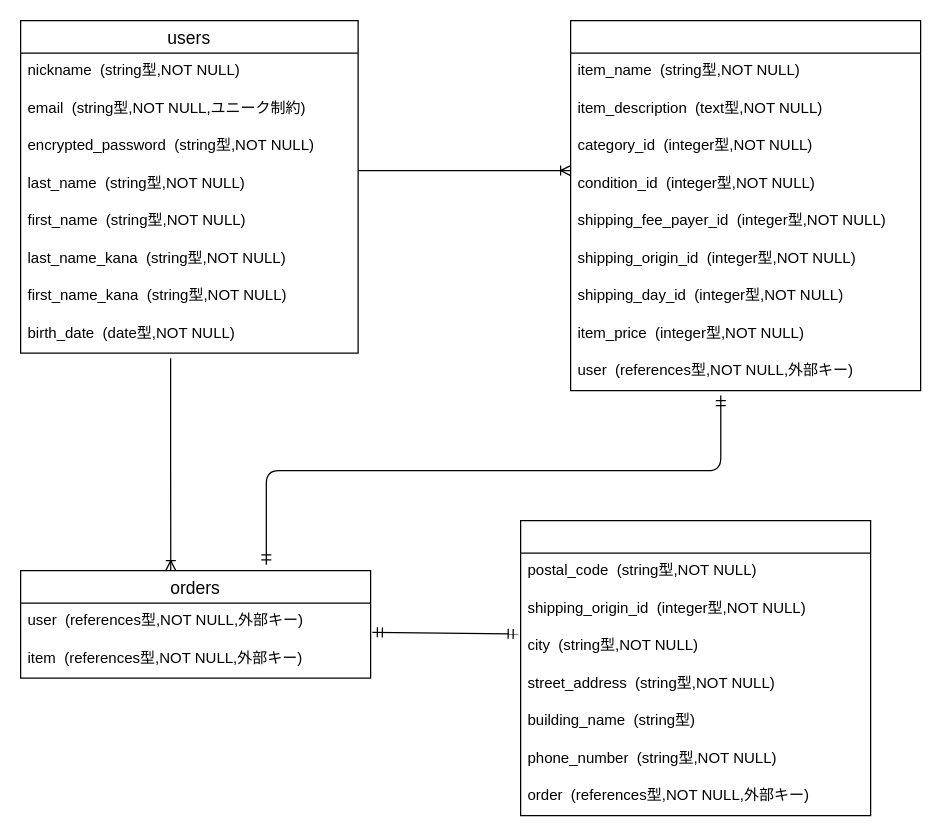
Some shapes in this 941 by 836 pixel diagram are drawn without their labels. Each missing label, with the box of its shape:
items: (569, 19, 921, 391)
shipping_addresses: (519, 519, 871, 816)
